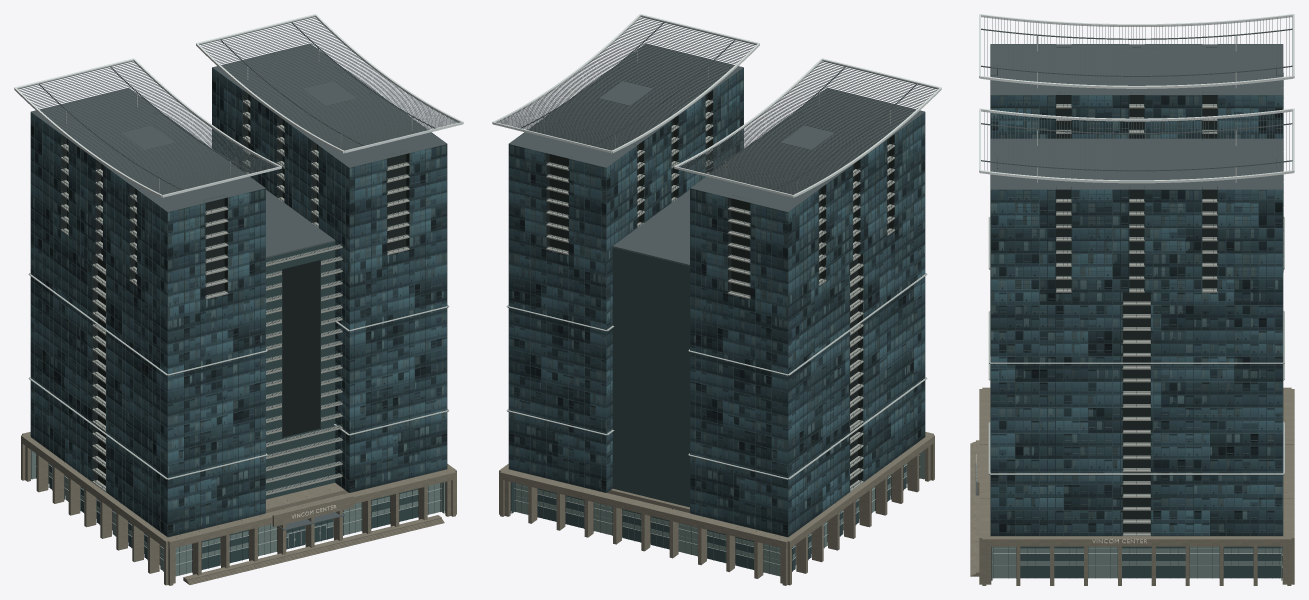
File: exterior.glb
The picture shows the model from 3 angles, left to right: view 1: azimuth 30°, elevation 25°; view 2: azimuth 150°, elevation 25°; view 3: azimuth 270°, elevation 25°; orthographic projection. The views are drawn at different scales.
Parts seen in each view (by area): view 1: Tower_A_glazing, Tower_B_glazing, Tower_A_recesses_and_mullions, Central_recess_balconies_and_screen, Shopping_podium_stone_and_recessed_glazing, Tower_A_open_roof_sunshade, Tower_B_open_roof_sunshade, Tower_B_recesses_and_mullions, Front_entrance_steps_and_doors, Vincom polish | central balcony fine rails; view 2: Tower_A_glazing, Tower_B_glazing, Tower_A_recesses_and_mullions, Central_recess_balconies_and_screen, Shopping_podium_stone_and_recessed_glazing, Tower_A_open_roof_sunshade, Tower_B_open_roof_sunshade, Tower_B_recesses_and_mullions; view 3: Tower_B_glazing, Tower_A_glazing, Tower_B_recesses_and_mullions, Shopping_podium_stone_and_recessed_glazing, Tower_B_open_roof_sunshade, Tower_A_open_roof_sunshade, Tower_A_recesses_and_mullions, Front_entrance_steps_and_doors.
Boxes of the visible parts, <box> form: Tower_A_glazing: <box>30,88,265,536</box>; Tower_B_glazing: <box>212,44,446,492</box>; Tower_A_recesses_and_mullions: <box>28,88,267,537</box>; Central_recess_balconies_and_screen: <box>266,189,342,499</box>; Shopping_podium_stone_and_recessed_glazing: <box>21,432,456,585</box>; Tower_A_open_roof_sunshade: <box>14,58,281,197</box>; Tower_B_open_roof_sunshade: <box>196,14,463,153</box>; Tower_B_recesses_and_mullions: <box>212,44,449,492</box>; Front_entrance_steps_and_doors: <box>183,512,444,584</box>; Vincom polish | central balcony fine rails: <box>266,245,342,493</box>; Tower_A_glazing: <box>690,88,925,536</box>; Tower_B_glazing: <box>509,44,743,492</box>; Tower_A_recesses_and_mullions: <box>688,88,927,537</box>; Central_recess_balconies_and_screen: <box>612,189,689,507</box>; Shopping_podium_stone_and_recessed_glazing: <box>499,432,934,585</box>; Tower_A_open_roof_sunshade: <box>674,58,941,197</box>; Tower_B_open_roof_sunshade: <box>492,14,759,153</box>; Tower_B_recesses_and_mullions: <box>506,45,743,492</box>; Tower_B_glazing: <box>990,138,1282,535</box>; Tower_A_glazing: <box>990,44,1282,138</box>; Tower_B_recesses_and_mullions: <box>988,139,1284,536</box>; Shopping_podium_stone_and_recessed_glazing: <box>977,387,1294,585</box>; Tower_B_open_roof_sunshade: <box>979,108,1294,183</box>; Tower_A_open_roof_sunshade: <box>979,14,1294,88</box>; Tower_A_recesses_and_mullions: <box>988,44,1284,380</box>; Front_entrance_steps_and_doors: <box>970,440,979,576</box>.
Size of the model in its own units: 86.48 by 107 by 75.53.
15 materials, 3 textured.
